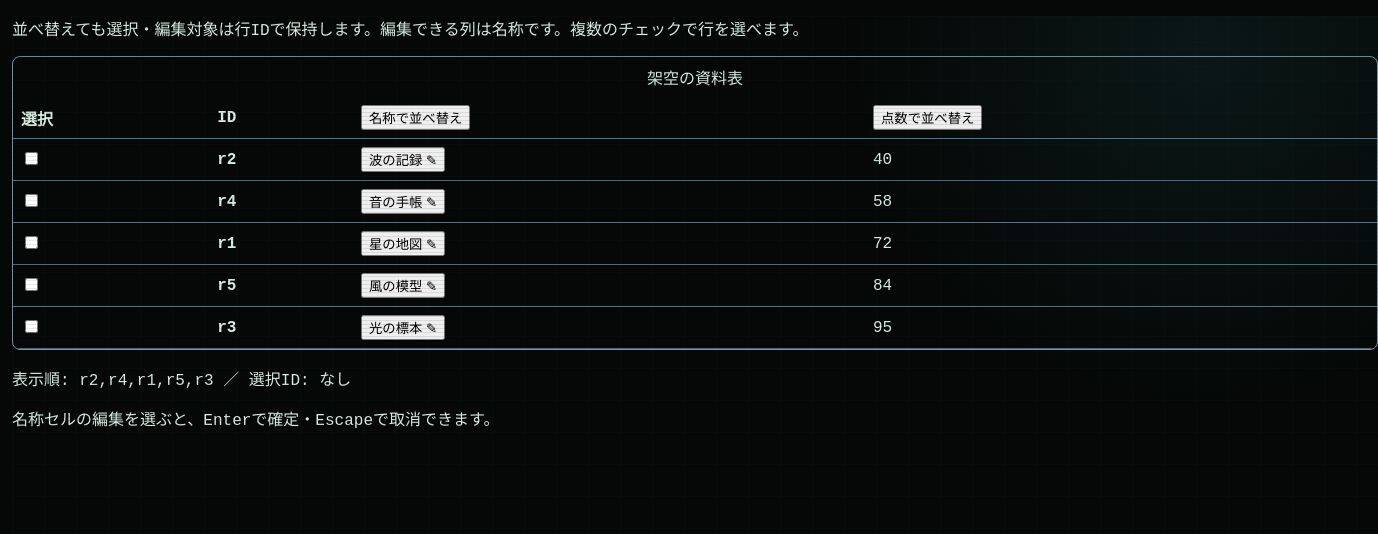
Test case: table escape cancels and keyboard enter commits without changing ID
The image size is (1378, 534).
Click the button with aria-label "r2 波の記録を編集": {"x": 403, "y": 160} [361,147,445,172]
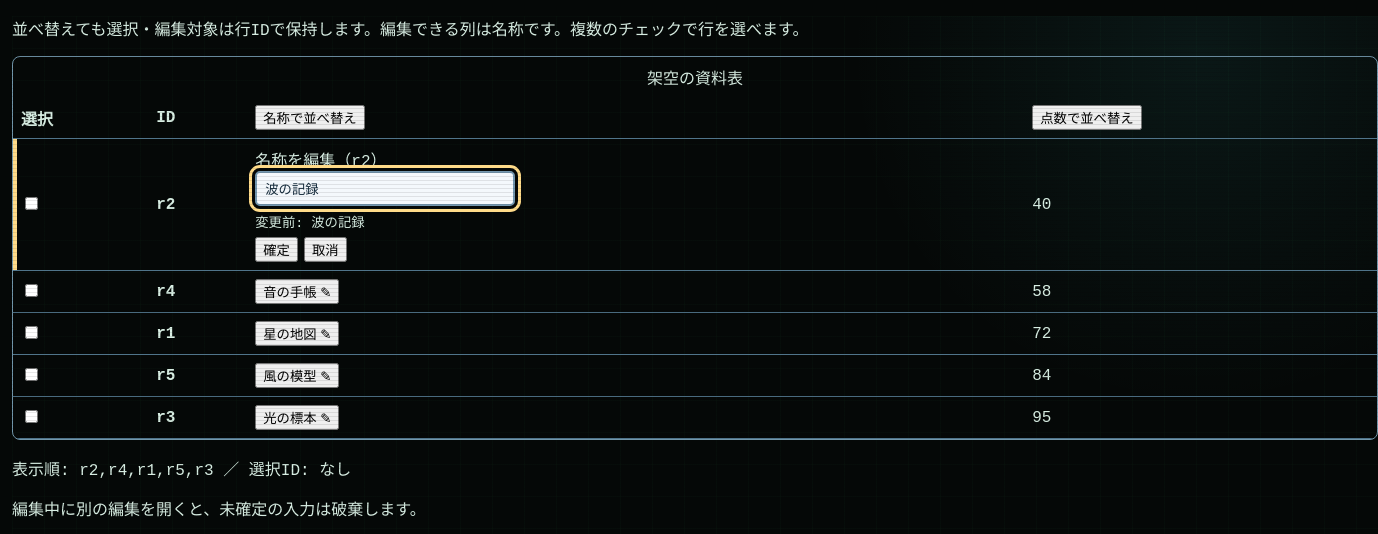
Replace the text in the field with "破棄する値": {"x": 385, "y": 188} [255,171,515,206]
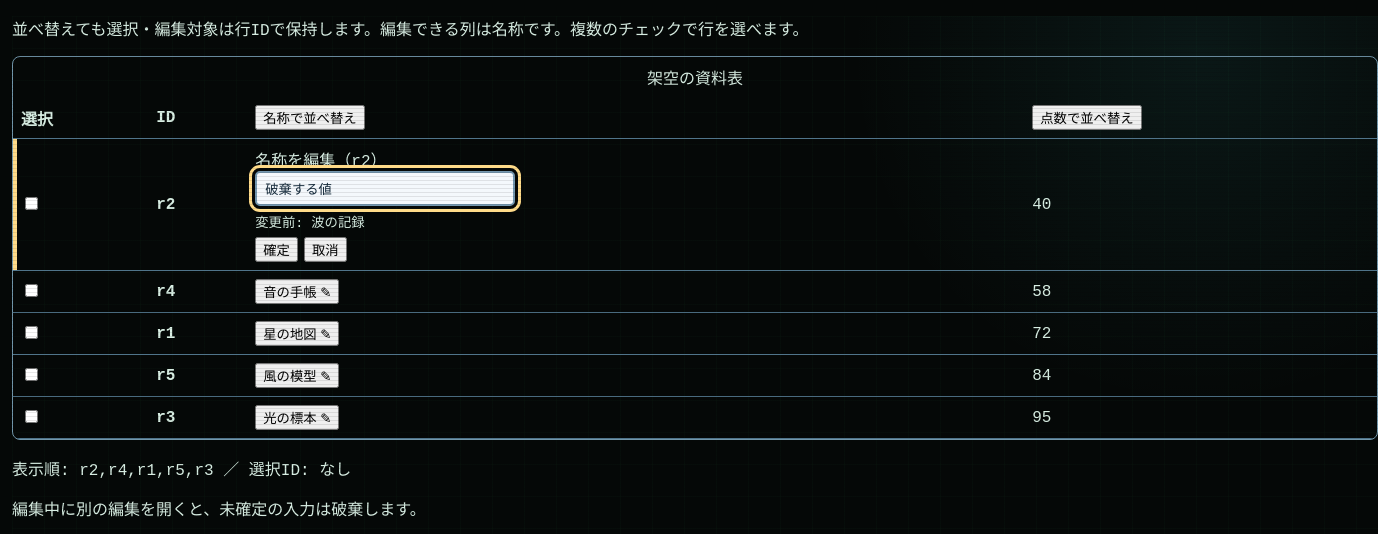
Press Escape in the field, box [255,171,515,206]
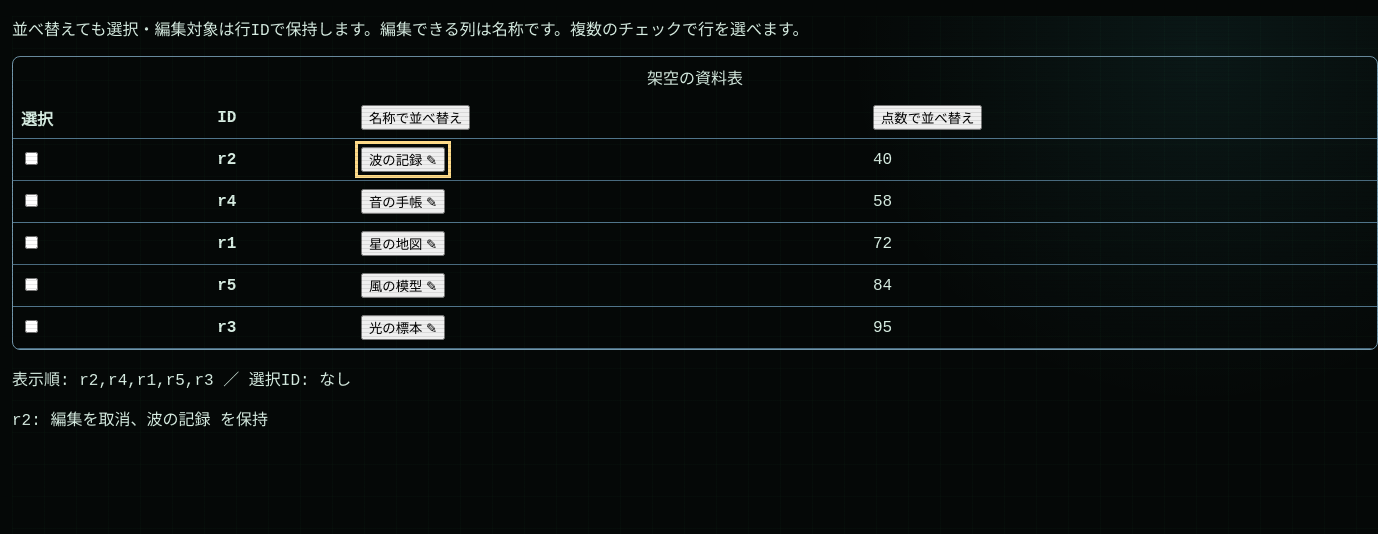
Click the button with aria-label "r2 波の記録を編集": {"x": 403, "y": 160} [361,147,445,172]
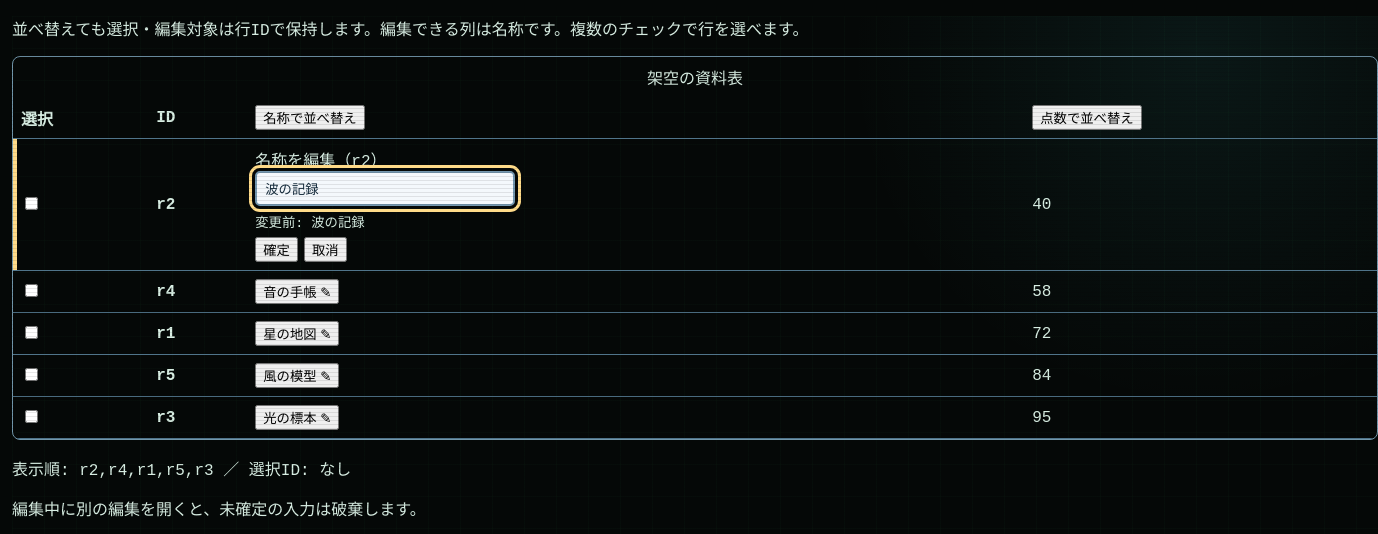
Replace the text in the field with "海の記録": {"x": 385, "y": 188} [255,171,515,206]
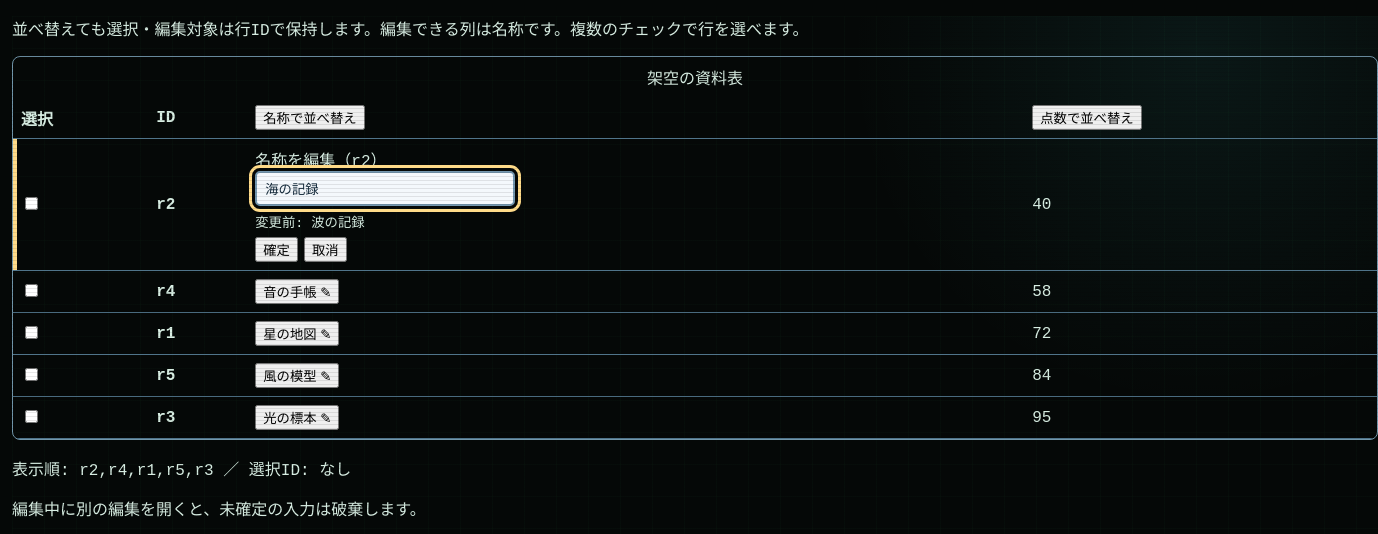
Press Enter in the field, box [255,171,515,206]
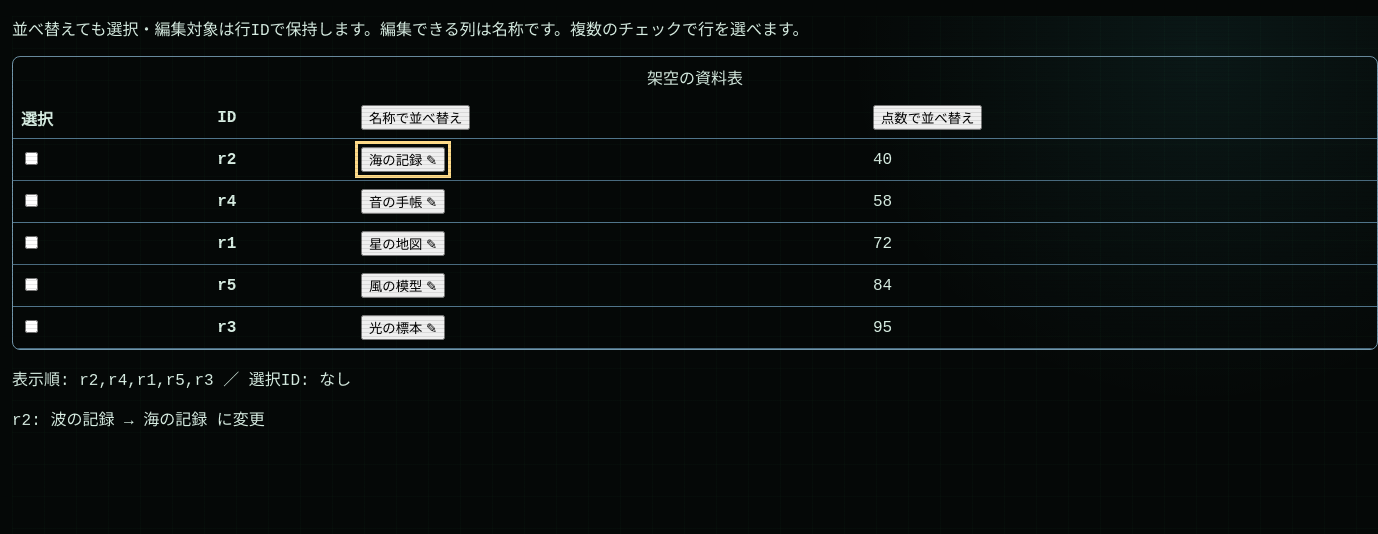
Now the button with aria-label "r2 海の記録を編集" is shown, box [361,147,445,172]
